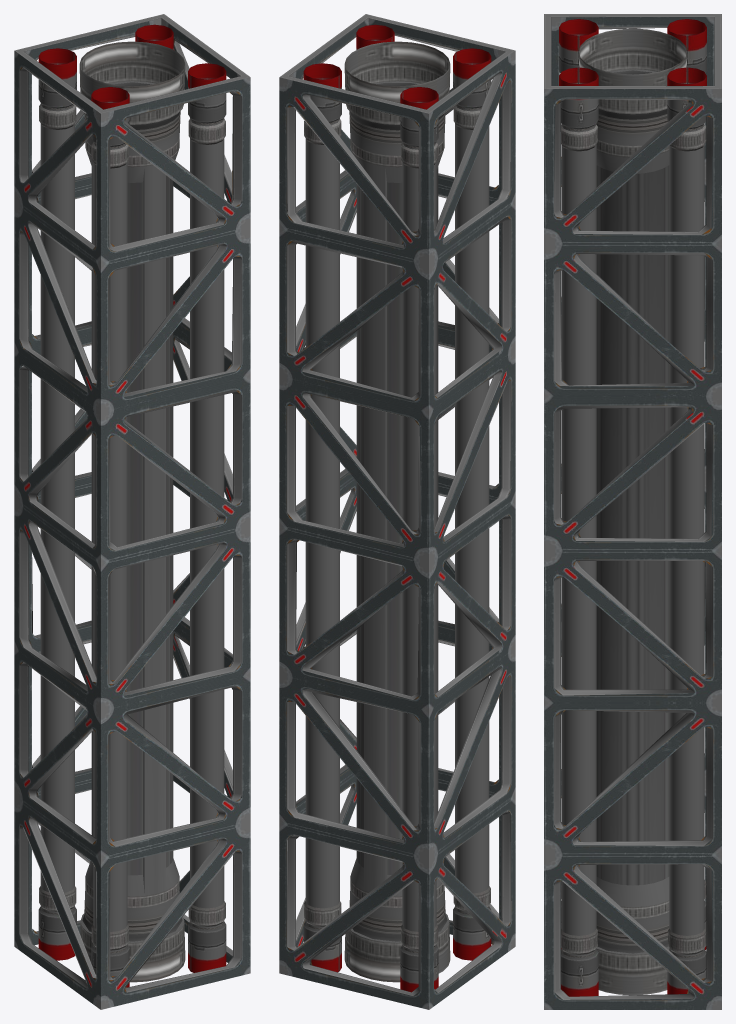
Rendered from sf_column_pipes.glb.
3 renders of one model, left to right at view 1: azimuth 30°, elevation 25°; view 2: azimuth 150°, elevation 25°; view 3: azimuth 270°, elevation 25°, orthographic. The views are drawn at different scales.
Visible parts, largest first — view 1: Column_Pipes; view 2: Column_Pipes; view 3: Column_Pipes.
Boxes of the visible parts, x1=… form: Column_Pipes: x1=14, y1=14, x2=250, y2=1009; Column_Pipes: x1=279, y1=14, x2=515, y2=1009; Column_Pipes: x1=544, y1=14, x2=721, y2=1009.
Bounding box in the file's own units: 0.8746 × 5 × 0.8746.
Materials: 3 (3 with a texture image).
